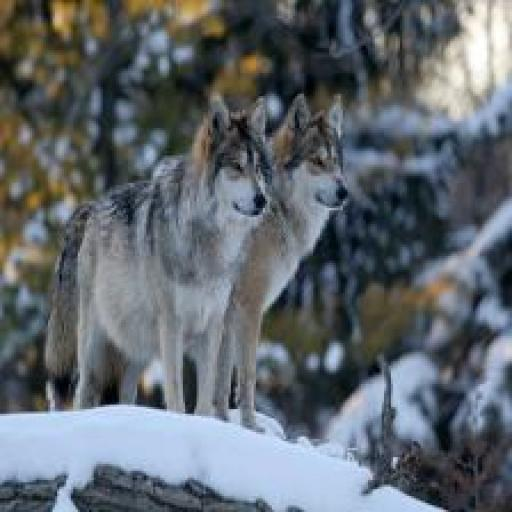wolf: (20, 73, 263, 437), (258, 41, 362, 333)
